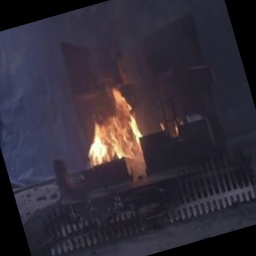fire: (62, 68, 164, 179)
